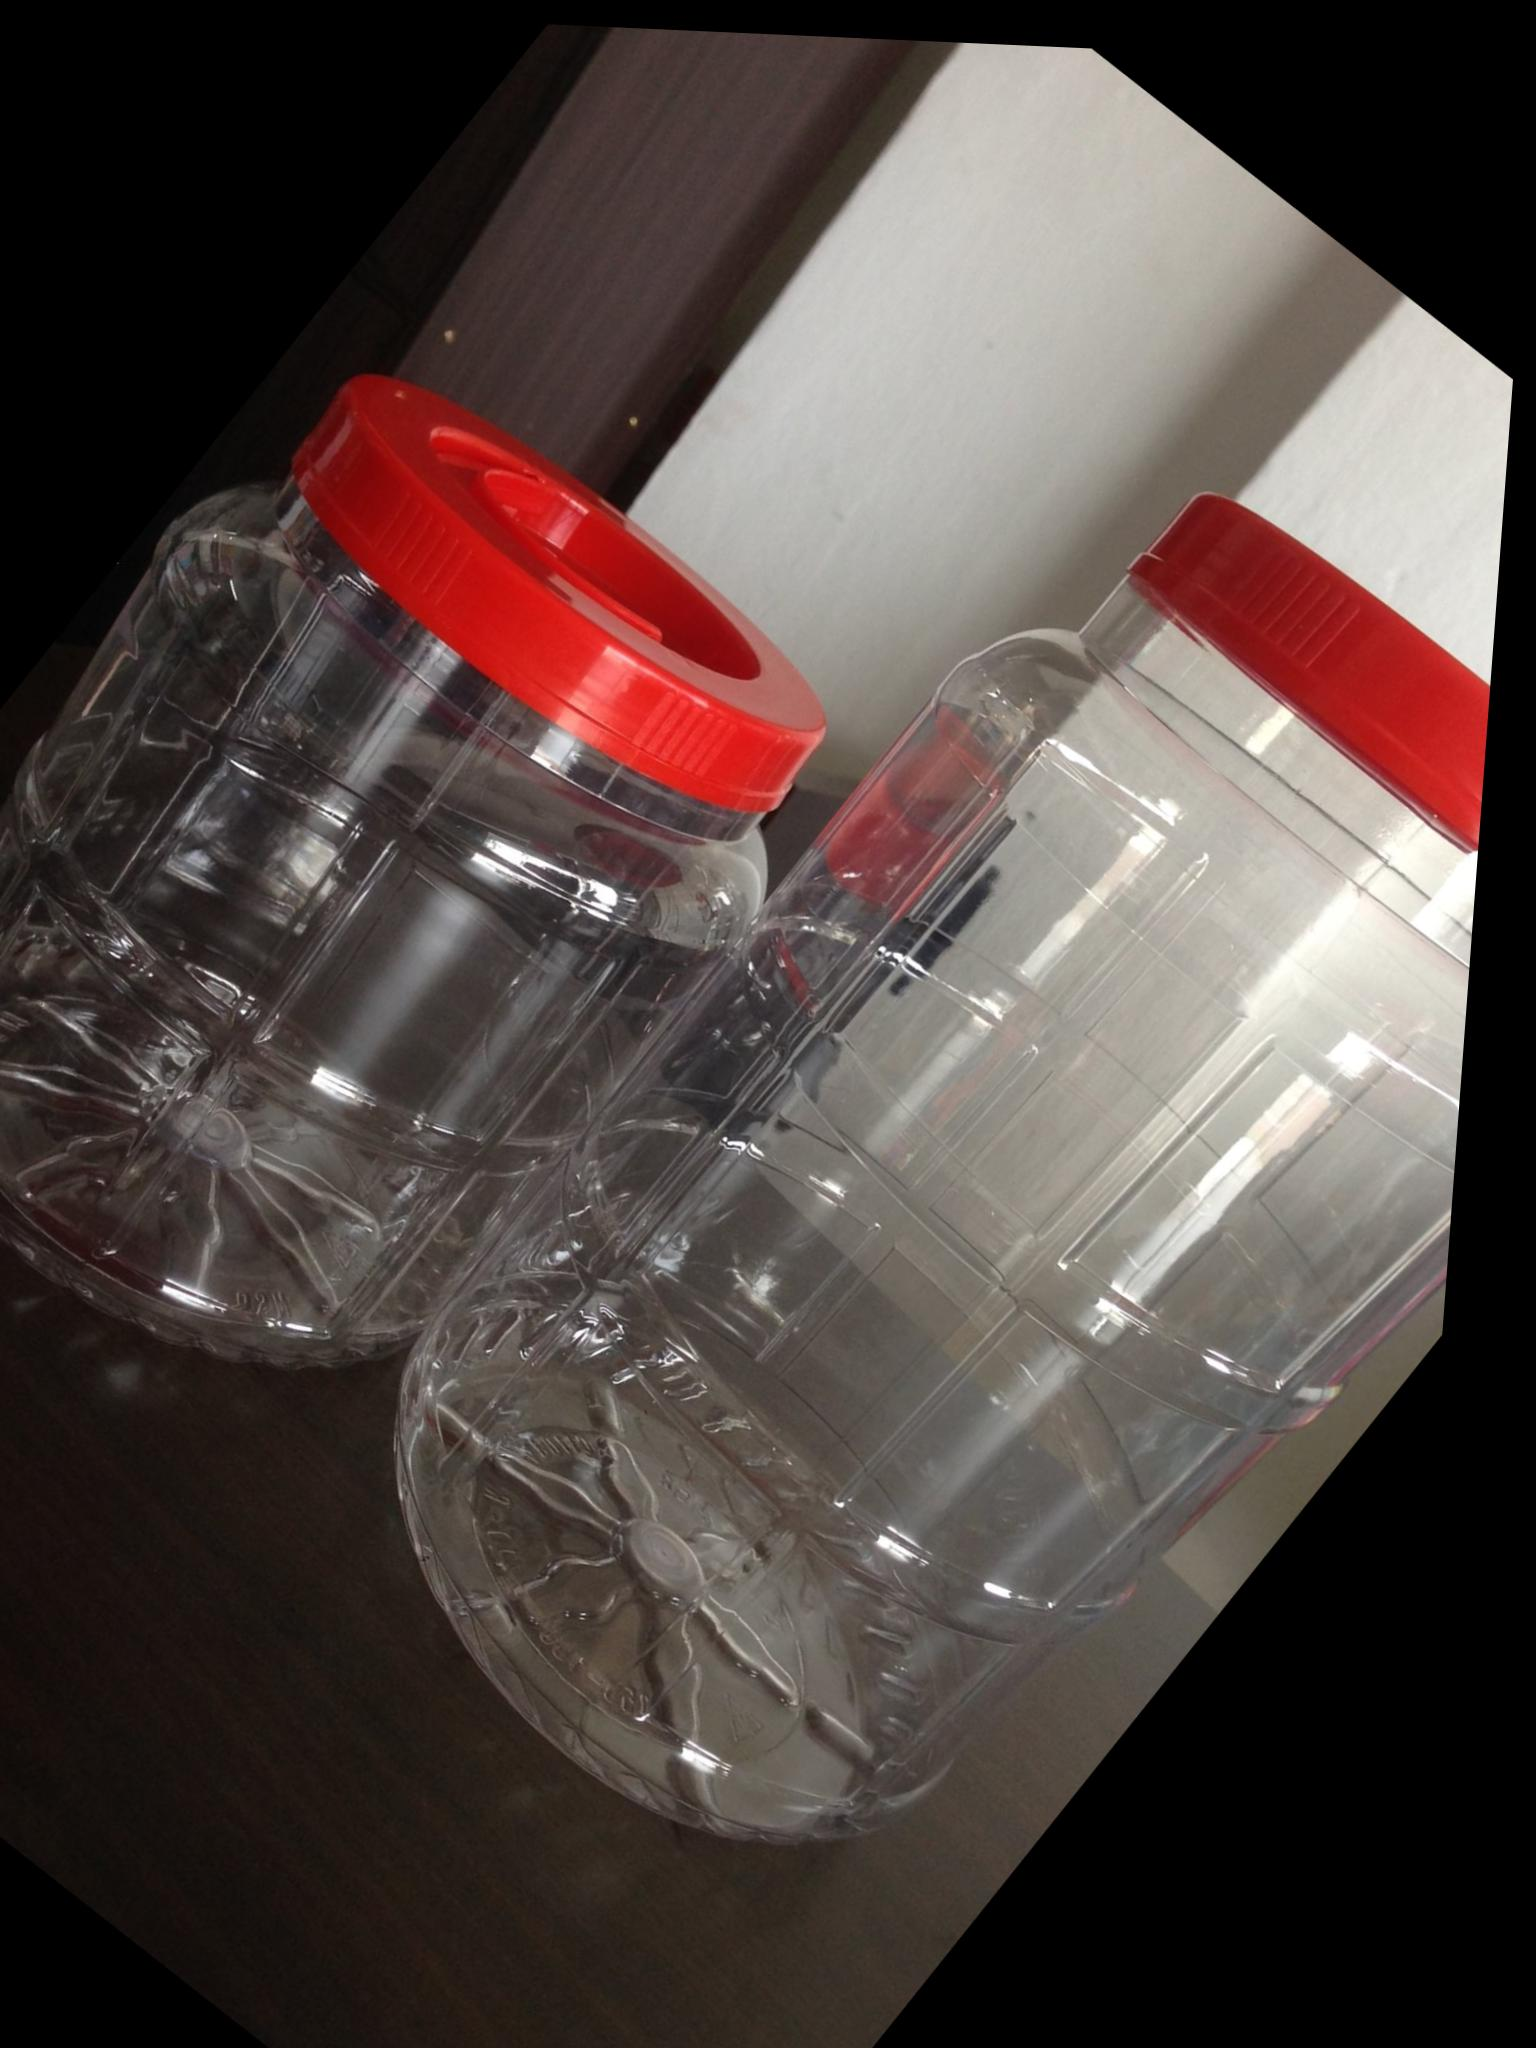plastic: (219, 369, 1510, 2048), (0, 289, 933, 1505)
